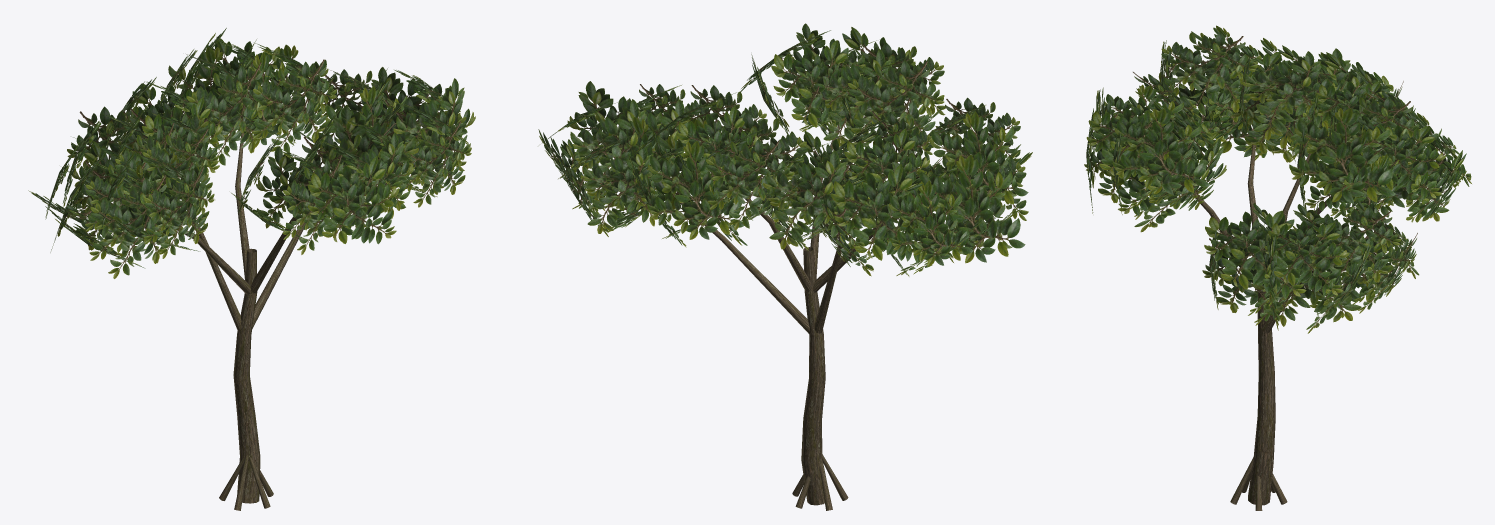
The model's file is tree_lod_03.glb.
3 views of the same model, side by side, from view 1: azimuth 30°, elevation 25°; view 2: azimuth 150°, elevation 25°; view 3: azimuth 270°, elevation 25° (orthographic). The views are drawn at different scales.
Parts seen in each view (by area): view 1: tree_lod_03; view 2: tree_lod_03; view 3: tree_lod_03.
Part boxes in pixels (left/top/right/bottom): tree_lod_03: left=28, top=28, right=475, bottom=510; tree_lod_03: left=538, top=23, right=1032, bottom=510; tree_lod_03: left=1084, top=25, right=1471, bottom=510.
Bounding box in the file's own units: 10.58 × 9.22 × 8.02.
2 materials, 2 textured.
